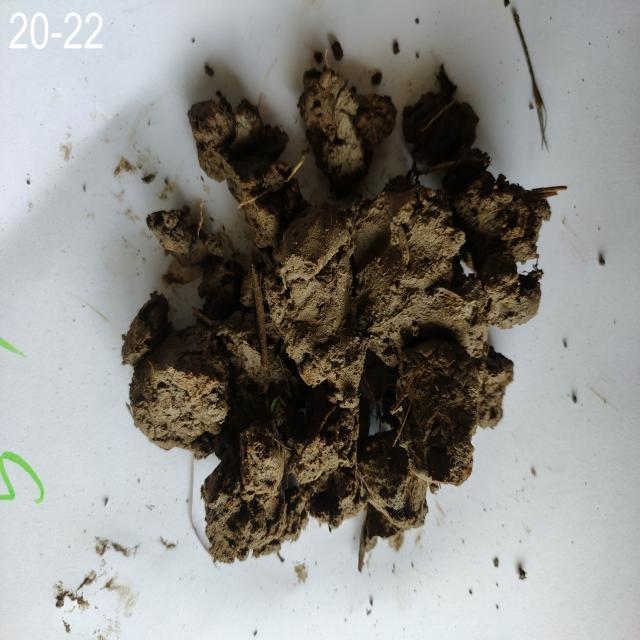soil: (246, 206, 444, 492)
